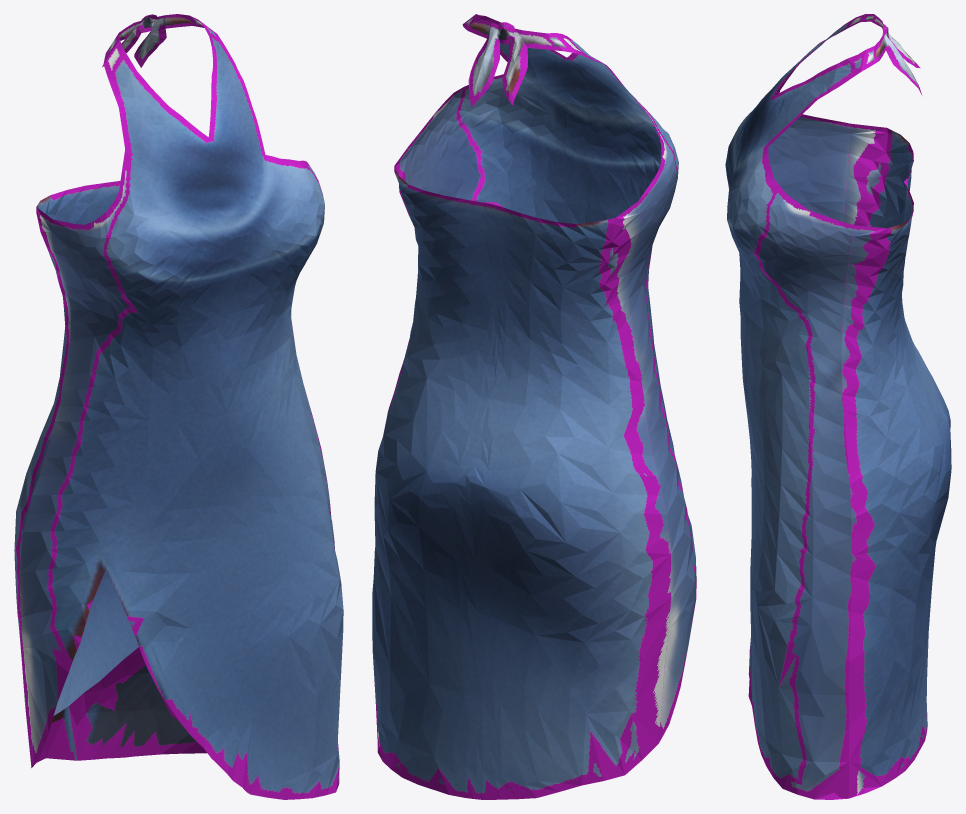
The picture shows the model from 3 angles, left to right: view 1: azimuth 30°, elevation 25°; view 2: azimuth 150°, elevation 25°; view 3: azimuth 270°, elevation 25°; orthographic projection. The views are drawn at different scales.
Size of the model in its own units: 0.4111 by 1.01 by 0.2923.
1 material, 1 textured.
